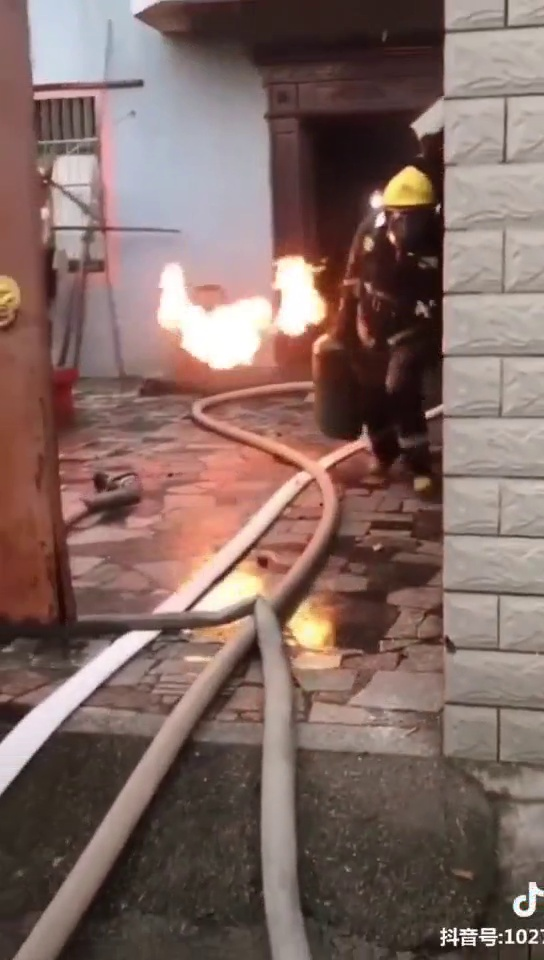fire: (149, 250, 330, 374)
